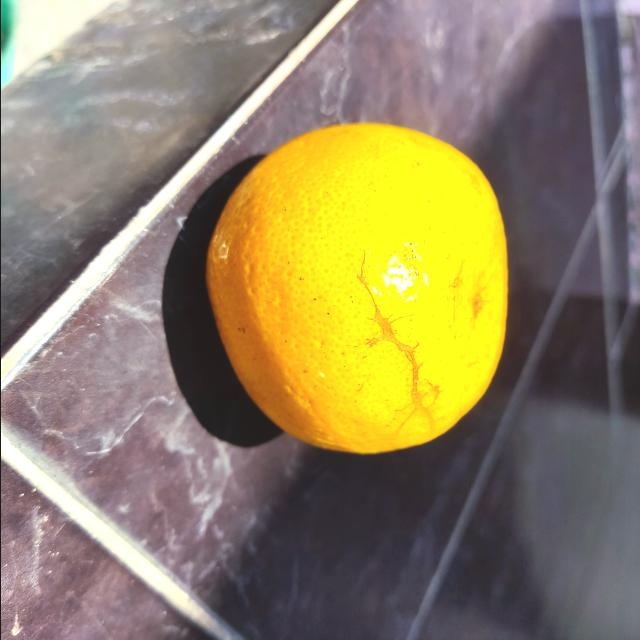agrume: (206, 117, 509, 459)
